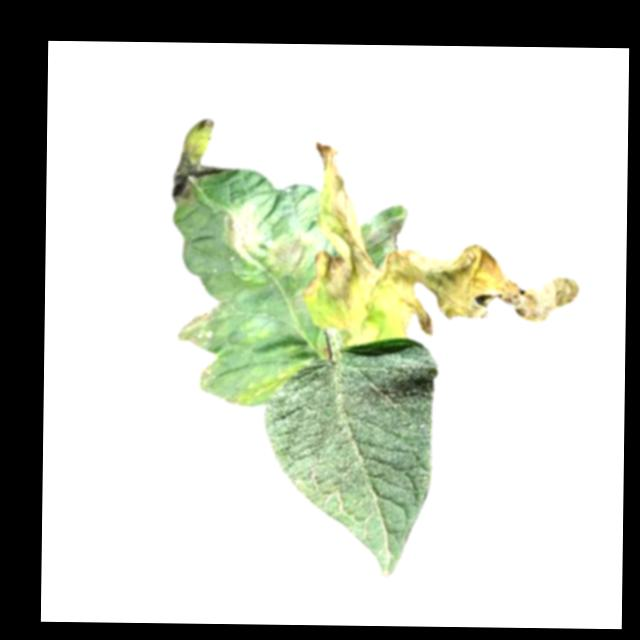Late_blight: (304, 138, 581, 343), (259, 336, 438, 578), (167, 116, 229, 205), (225, 199, 263, 256), (269, 226, 309, 278), (173, 305, 217, 348), (194, 356, 215, 393)
